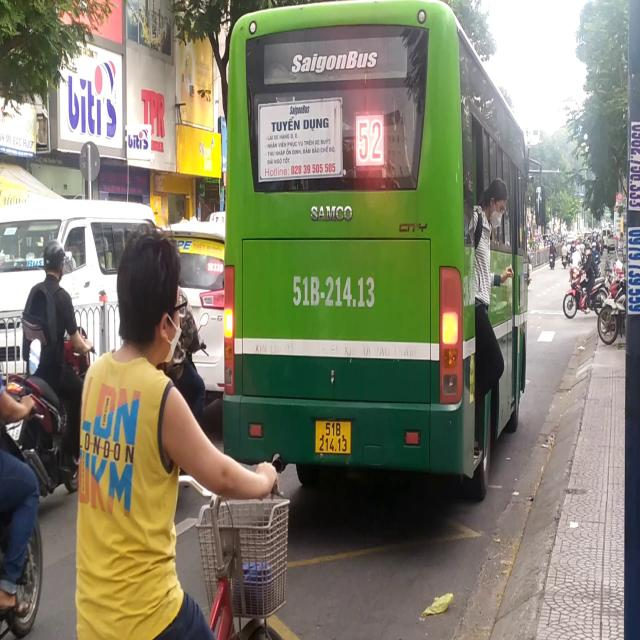bien_vang: (314, 417, 353, 458)
